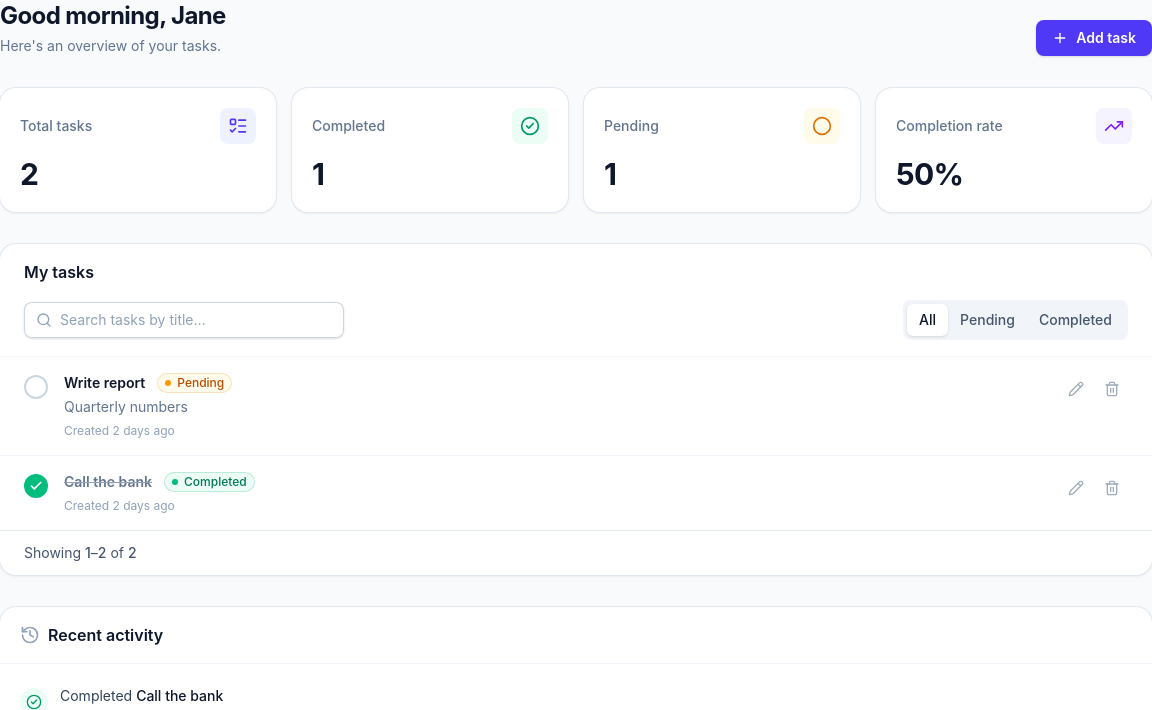
Test: DashboardPage › creates a task through the modal form
The width and height of the screenshot is (1152, 710).
Expected: the list named "Tasks" is shown, [0,357,1151,530]
Click the button "Add task". click: [1094, 38]
box: [1036,20,1151,56]
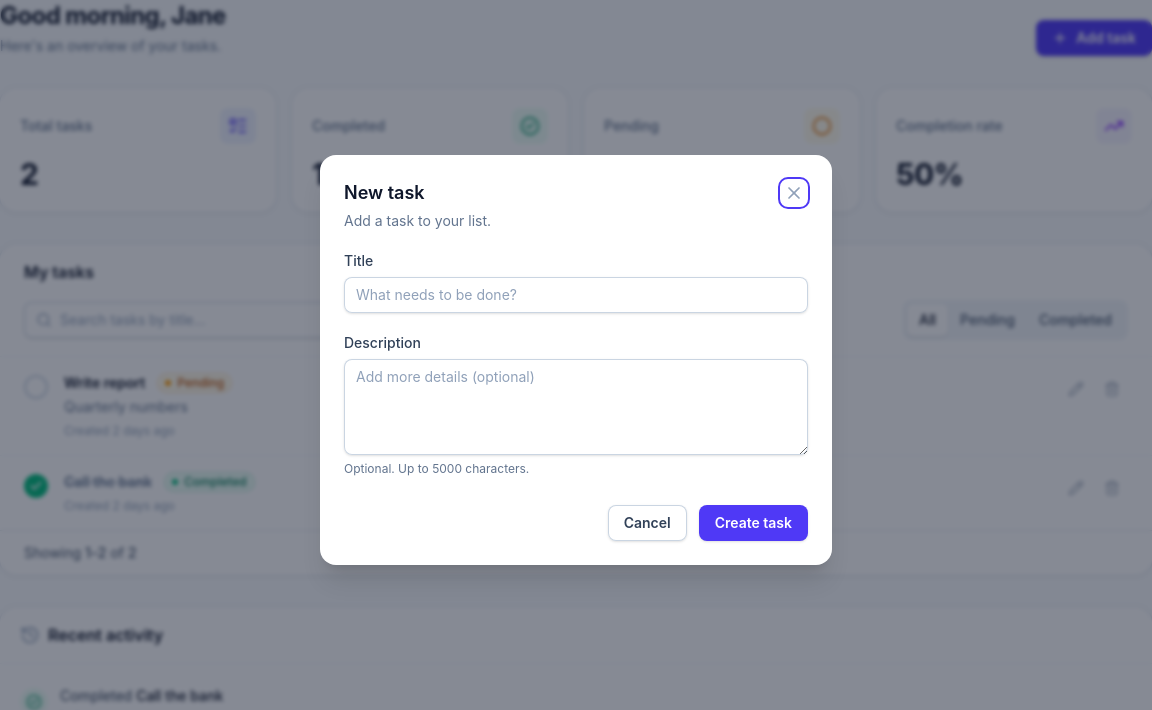
Type "New task" into the field labelled "Title". click: [576, 295]
box: [344,277,808,313]
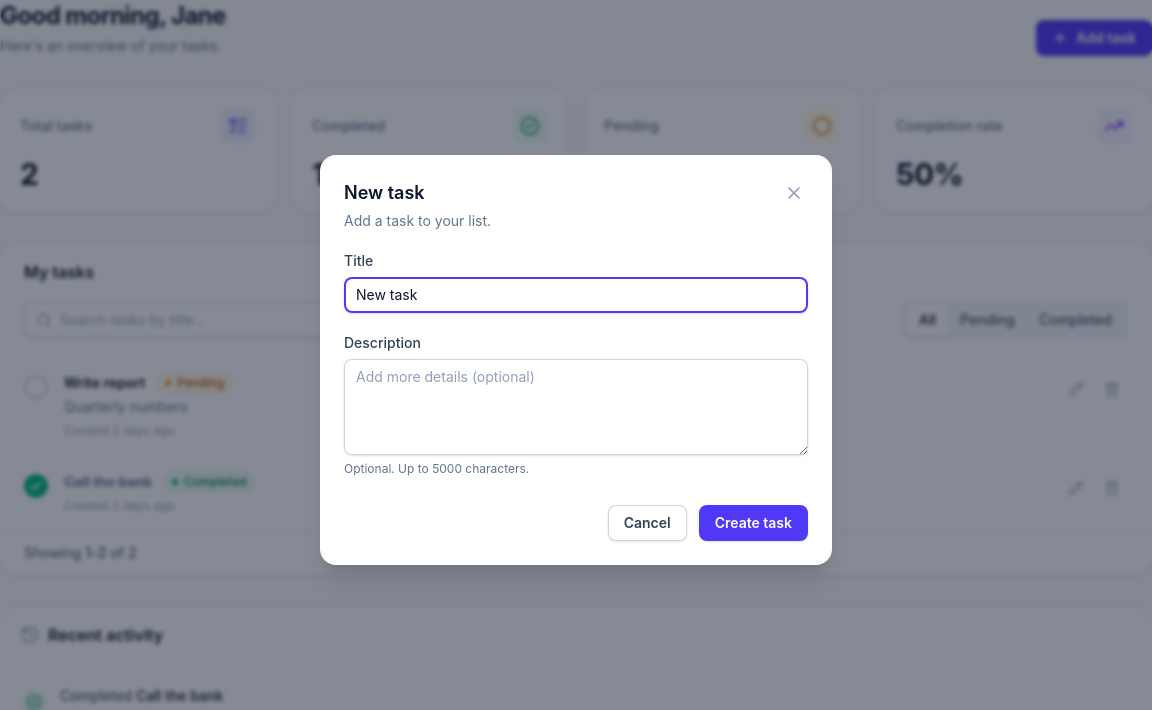
Click the button "Create task". click: [753, 523]
box: [699,505,808,541]
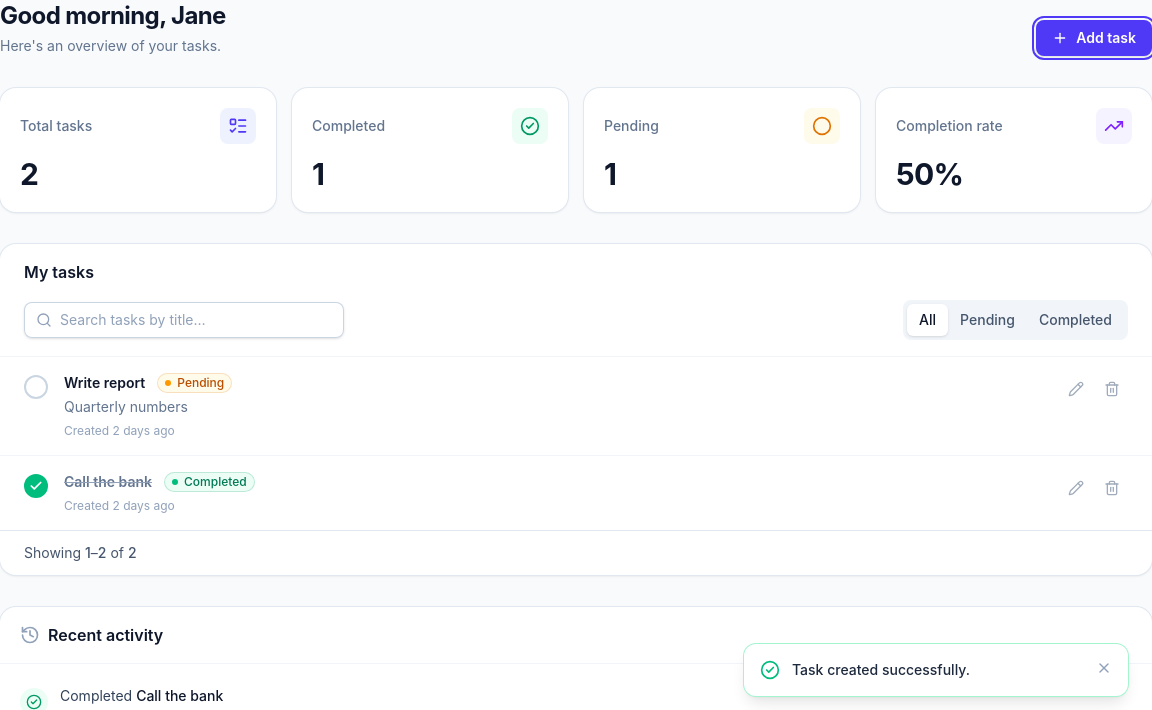
Now the text "Task created successfully." is shown, box [792,661,970,678]
Now the dialog is gone
